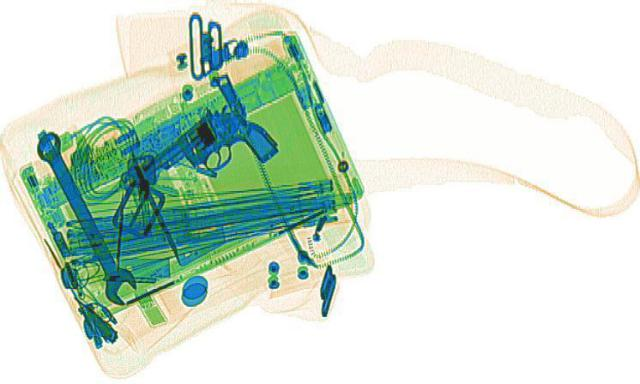Gun: (121, 105, 295, 205)
Wrench: (23, 129, 145, 304)
